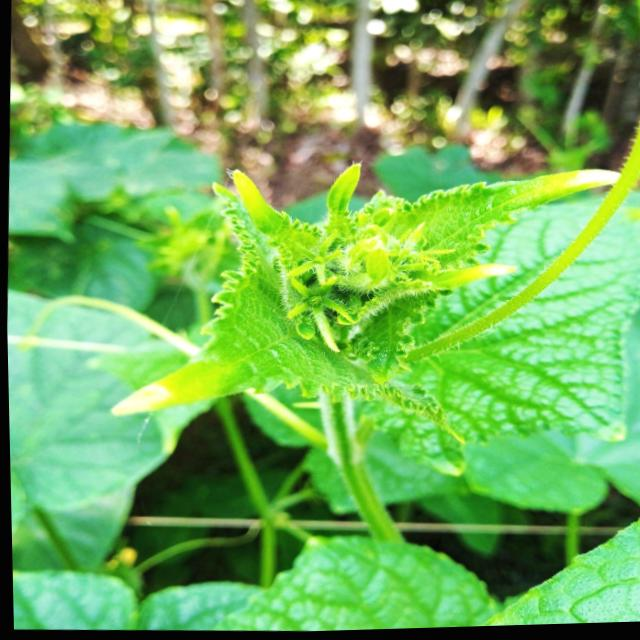Fresh-Leaf: (109, 162, 466, 454)
